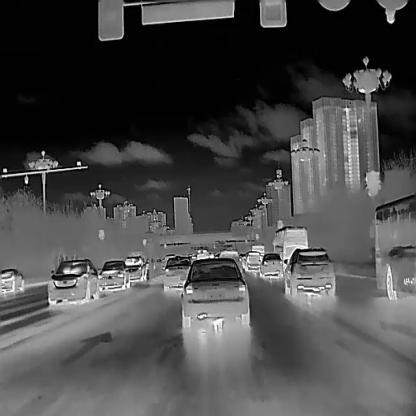car: (369, 191, 416, 301), (179, 257, 250, 327), (281, 246, 335, 295), (46, 258, 100, 303), (271, 225, 307, 264), (97, 258, 131, 290), (162, 256, 189, 289), (123, 255, 147, 281), (258, 252, 282, 277), (0, 268, 24, 293), (218, 248, 242, 271), (243, 250, 262, 271), (250, 243, 264, 258), (197, 248, 208, 259)
